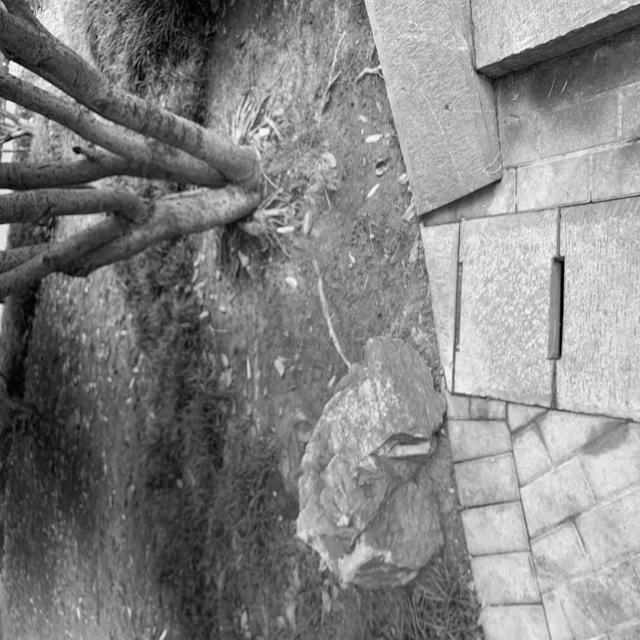Stone: (296, 338, 445, 588)
Tree: (0, 0, 261, 297)
